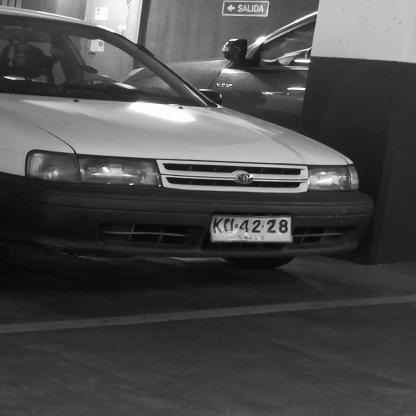Patente: (212, 213, 295, 244)
